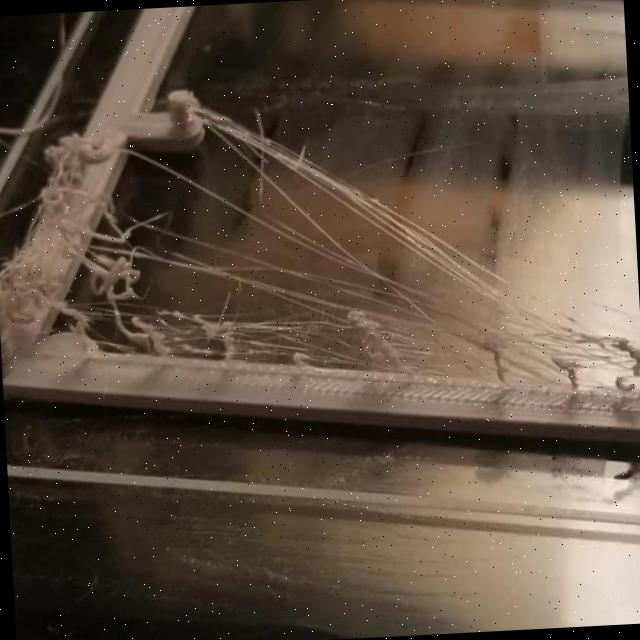stringing: (206, 104, 585, 369), (87, 212, 416, 318), (344, 304, 494, 375), (498, 332, 640, 400), (120, 300, 216, 356), (222, 314, 347, 356)
